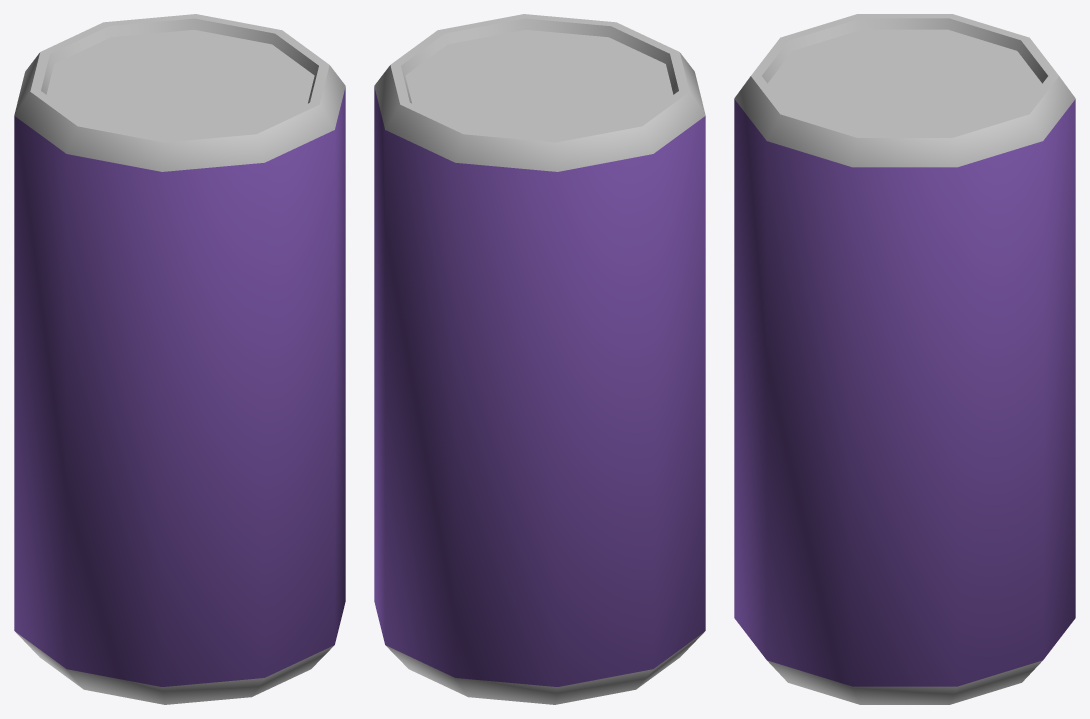
The model's file is Soda_Alt.obj.
3 renders of one model, left to right at view 1: azimuth 30°, elevation 25°; view 2: azimuth 150°, elevation 25°; view 3: azimuth 270°, elevation 25°, orthographic.
Parts seen in each view (by area): view 1: Soda_Alt; view 2: Soda_Alt; view 3: Soda_Alt.
Boxes of the visible parts, x1,y1,x2,y2 form: Soda_Alt: [14, 14, 345, 704]; Soda_Alt: [374, 14, 705, 704]; Soda_Alt: [734, 14, 1075, 704].
Bounding box in the file's own units: 0.085 × 0.1657 × 0.0893.
